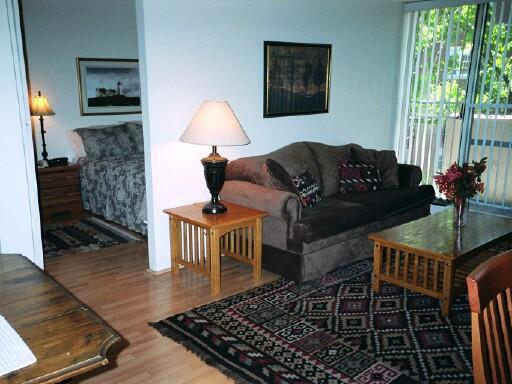Cama: (78, 125, 145, 227)
